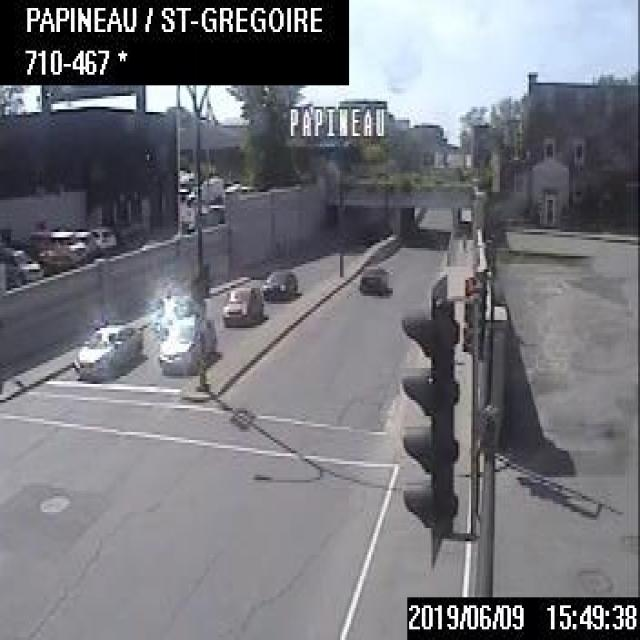pedestrian: (459, 228, 468, 254)
vehicle: (153, 314, 218, 374), (73, 320, 140, 376), (220, 281, 262, 323), (0, 247, 44, 284), (46, 228, 86, 263), (261, 266, 296, 302), (86, 223, 118, 251), (360, 261, 385, 288)
